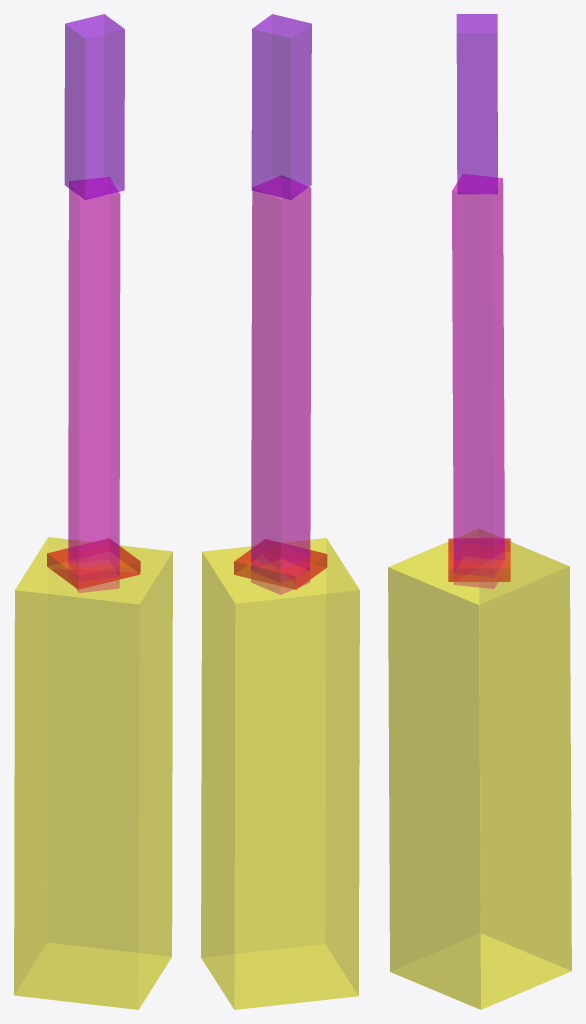
The model's file is ex2_condition.glb.
3 views of the same model, side by side, from view 1: azimuth 30°, elevation 25°; view 2: azimuth 150°, elevation 25°; view 3: azimuth 270°, elevation 25° (orthographic).
Visible parts, largest first — view 1: part_2, part_1, part_0, part_3; view 2: part_2, part_1, part_0, part_3; view 3: part_2, part_1, part_0, part_3.
Part boxes in pixels (x1=…): part_2: x1=14, y1=537, x2=172, y2=1009; part_1: x1=68, y1=177, x2=120, y2=592; part_0: x1=64, y1=14, x2=124, y2=199; part_3: x1=47, y1=538, x2=140, y2=589; part_2: x1=201, y1=538, x2=359, y2=1009; part_1: x1=251, y1=175, x2=311, y2=594; part_0: x1=251, y1=14, x2=311, y2=199; part_3: x1=234, y1=539, x2=327, y2=589; part_2: x1=388, y1=529, x2=571, y2=1009; part_1: x1=452, y1=174, x2=504, y2=588; part_0: x1=456, y1=14, x2=497, y2=194; part_3: x1=448, y1=538, x2=510, y2=581.
Bounding box in the file's own units: 0.2437 × 1.4 × 0.2462.
